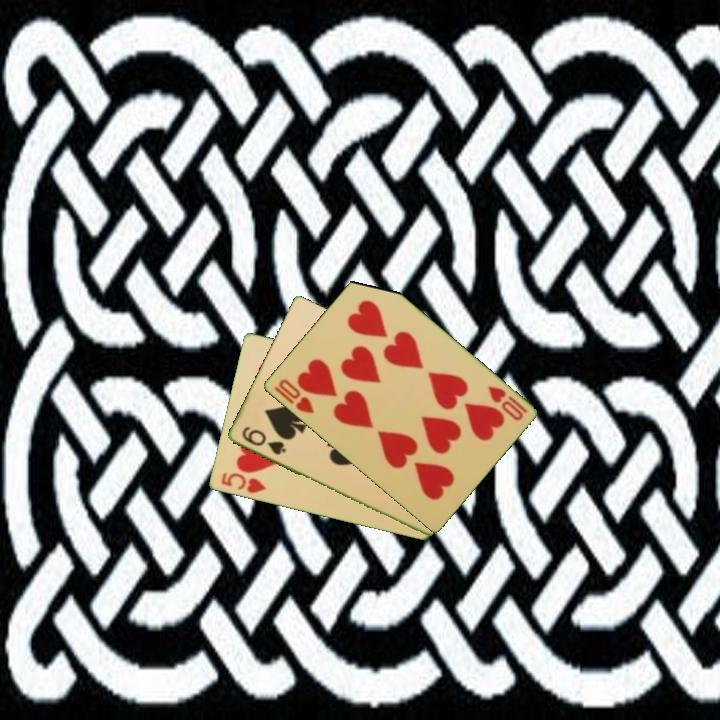10h: (270, 375, 317, 417), (484, 382, 530, 424)
5h: (217, 469, 269, 496)
6s: (238, 423, 288, 458)
